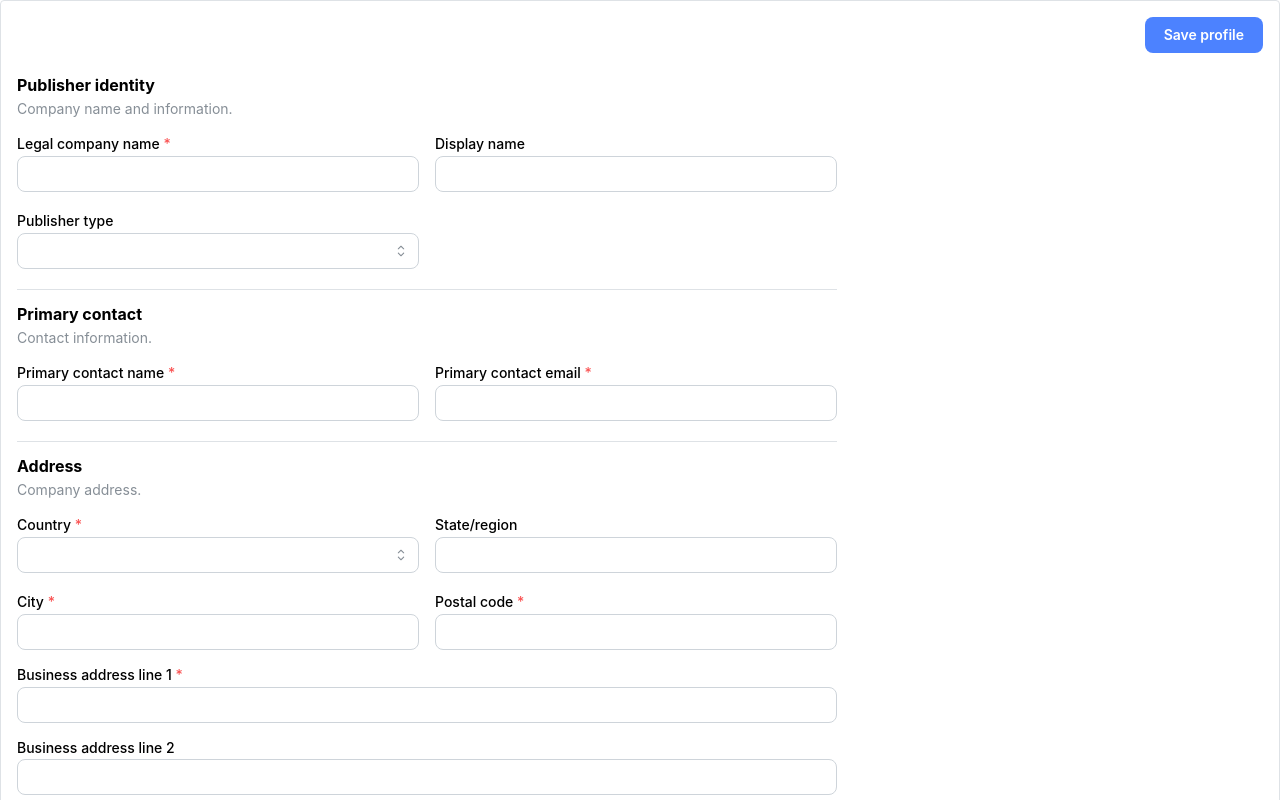
Scenario: CompanyProfileForm › renders required field errors
This screenshot has width=1280, height=800.
Step 1. Click the button "Save profile" → (1204, 35), box [1145,17,1263,53]
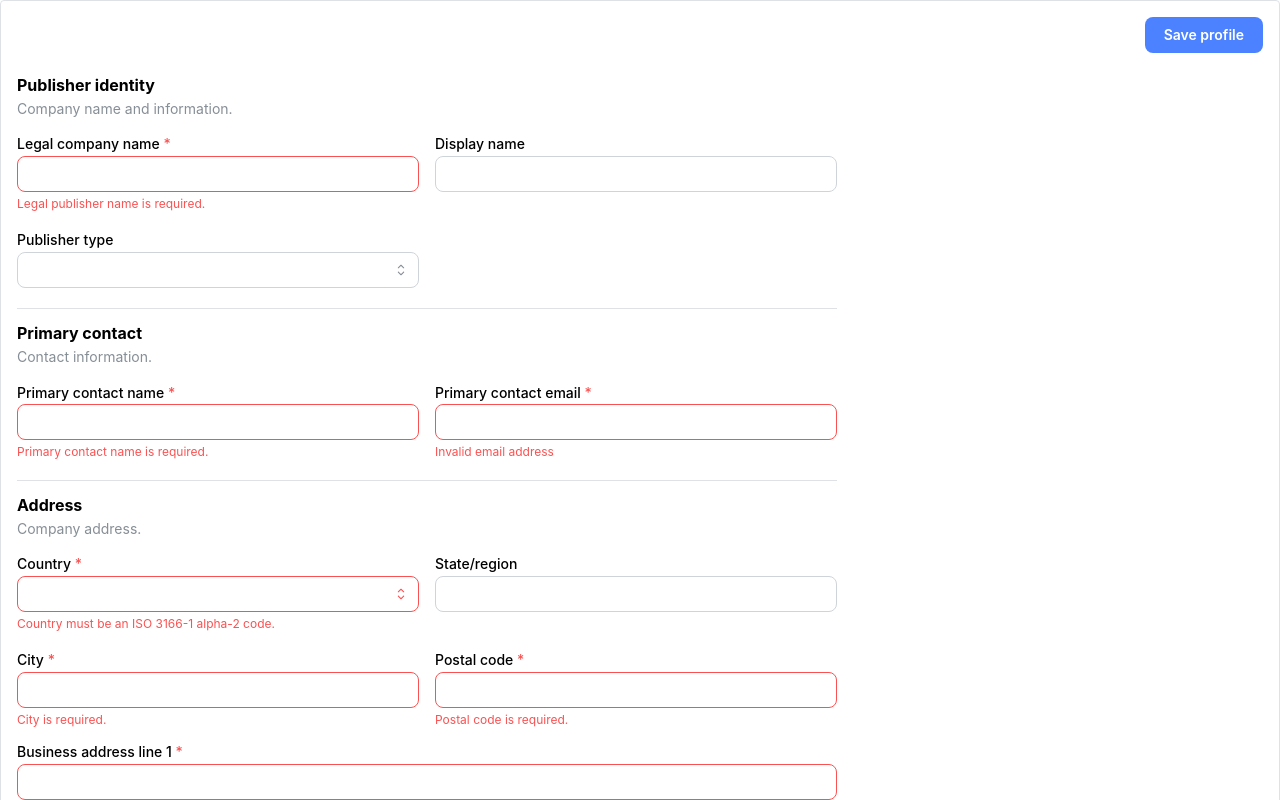
Check: the text "Legal publisher name is required." is shown, box [17,196,205,211]
Check: the text "Primary contact name is required." is shown, box [17,444,208,459]
Check: the text "City is required." is shown, box [17,712,106,727]
